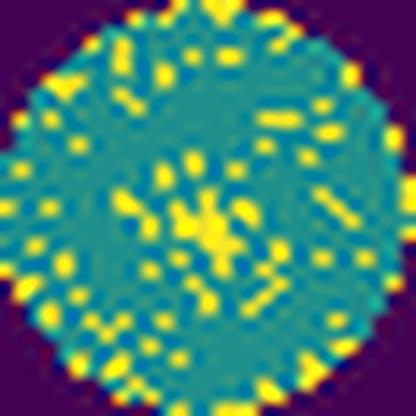Center: (165, 188, 264, 293)
